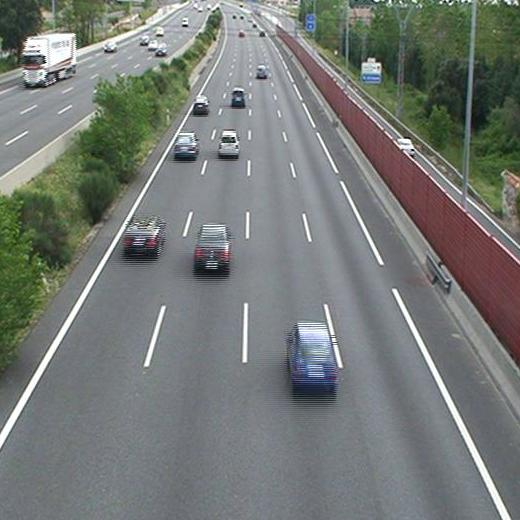car: (289, 324, 337, 386), (195, 224, 230, 268), (124, 221, 163, 252), (175, 133, 198, 157), (218, 132, 240, 155), (192, 96, 209, 113), (231, 89, 245, 106), (255, 66, 267, 77)
